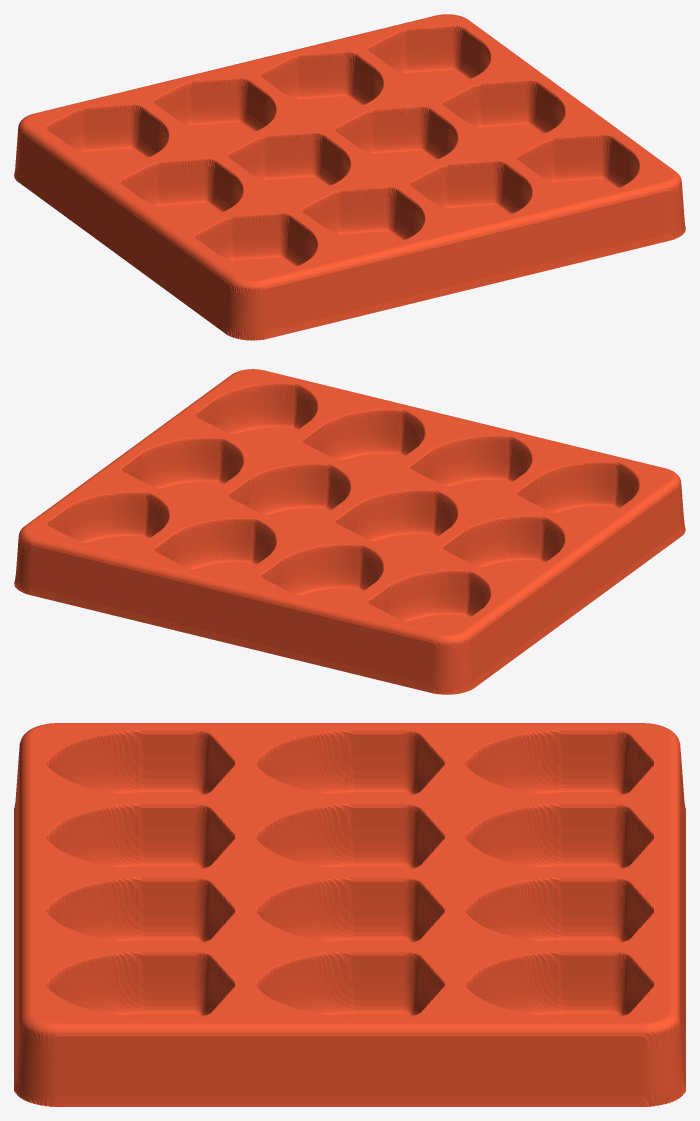
File: mold.glb
The picture shows the model from 3 angles, top to bottom: view 1: azimuth 30°, elevation 25°; view 2: azimuth 150°, elevation 25°; view 3: azimuth 270°, elevation 25°; orthographic projection. The views are drawn at different scales.
Visible parts, largest first — view 1: geometry_0; view 2: geometry_0; view 3: geometry_0.
Part boxes in pixels (x1=…): geometry_0: x1=14, y1=14, x2=685, y2=340; geometry_0: x1=14, y1=369, x2=685, y2=694; geometry_0: x1=14, y1=723, x2=685, y2=1106.
Bounding box in the file's own units: 0.1533 × 0.0175 × 0.1389.
